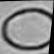no answer: (0, 5, 53, 51)
